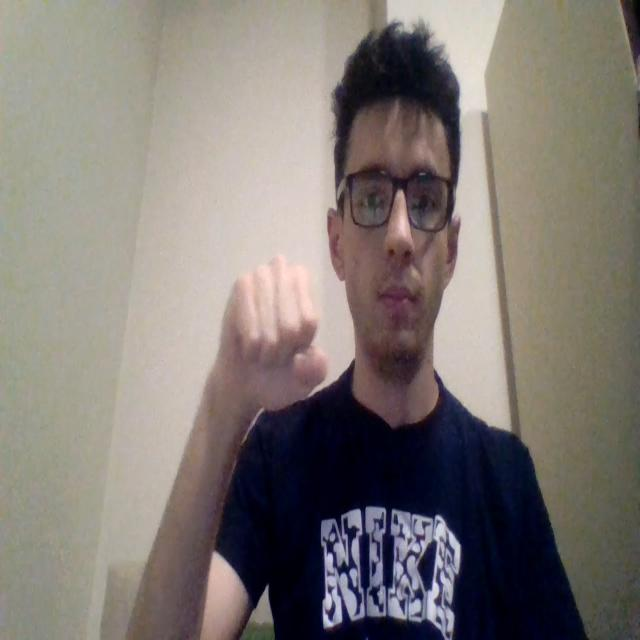yes: (212, 252, 328, 418)
